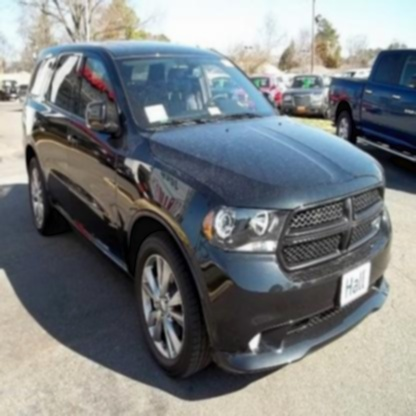Vehicle: (20, 42, 394, 381)
